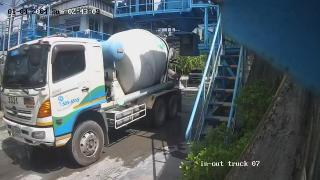cement_mixer_truck: (0, 29, 182, 166)
